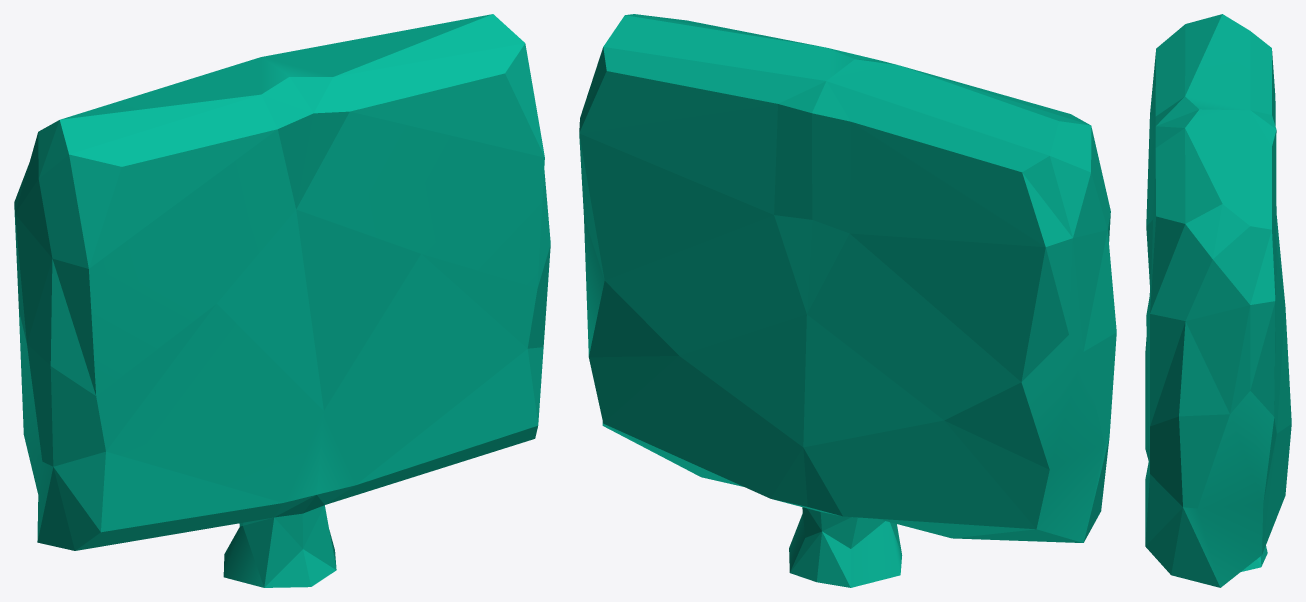
File: Flower_Wall.fbx
3 views of the same model, side by side, from view 1: azimuth 30°, elevation 25°; view 2: azimuth 150°, elevation 25°; view 3: azimuth 270°, elevation 25° (orthographic). The views are drawn at different scales.
Parts seen in each view (by area): view 1: Mesh_OBJ_Bush_V_3:polySurface1; view 2: Mesh_OBJ_Bush_V_3:polySurface1; view 3: Mesh_OBJ_Bush_V_3:polySurface1.
Boxes of the visible parts, x1,y1,x2,y2 form: Mesh_OBJ_Bush_V_3:polySurface1: [14, 14, 550, 587]; Mesh_OBJ_Bush_V_3:polySurface1: [579, 14, 1116, 587]; Mesh_OBJ_Bush_V_3:polySurface1: [1145, 14, 1291, 587].
Size of the model in its own units: 6.91 by 6.55 by 1.95.
